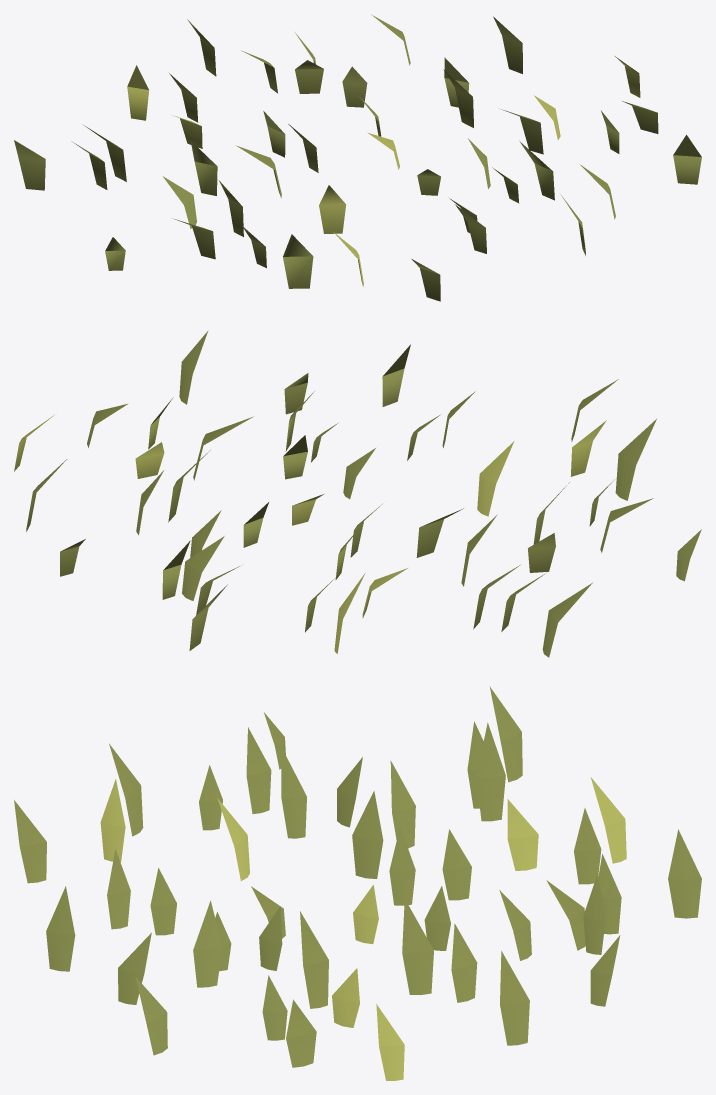
Rendered from foliage_grass_b.glb.
3 views of the same model, one above another, from view 1: azimuth 30°, elevation 25°; view 2: azimuth 150°, elevation 25°; view 3: azimuth 270°, elevation 25° (orthographic). The views are drawn at different scales.
Parts seen in each view (by area): view 1: foliage_grass_b_LOD0; view 2: foliage_grass_b_LOD0; view 3: foliage_grass_b_LOD0.
Part boxes in pixels (x1,y1,x2,y2): foliage_grass_b_LOD0: (14,14,701,301); foliage_grass_b_LOD0: (14,330,701,657); foliage_grass_b_LOD0: (14,686,701,1080).
Size of what is drawn, in the model's own units: 1.55 by 0.1763 by 1.4.
